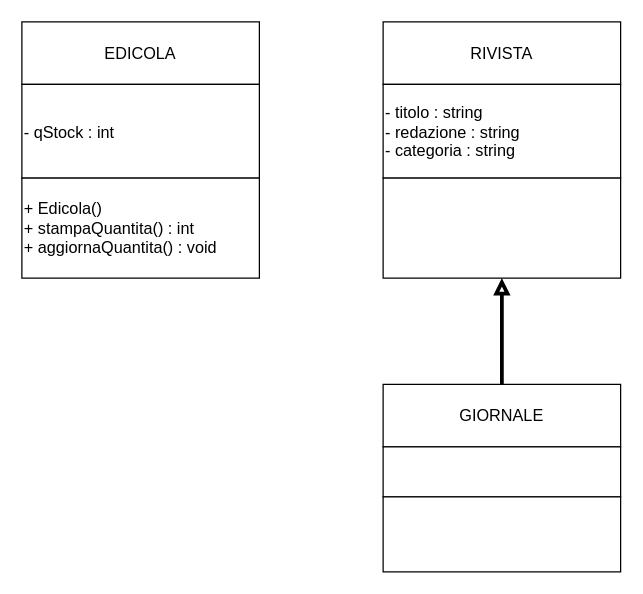
This 643x594 diagram has some shape labels left out. Here are the shapes that lost their labels. From the top down, the centre of each, then its label:
point (501, 227): + Rivista() ... + stampaDettaglio() : string + esportaCSV() : string
point (501, 471): - hasInserto : bool
point (501, 534): + Giornale() ...
